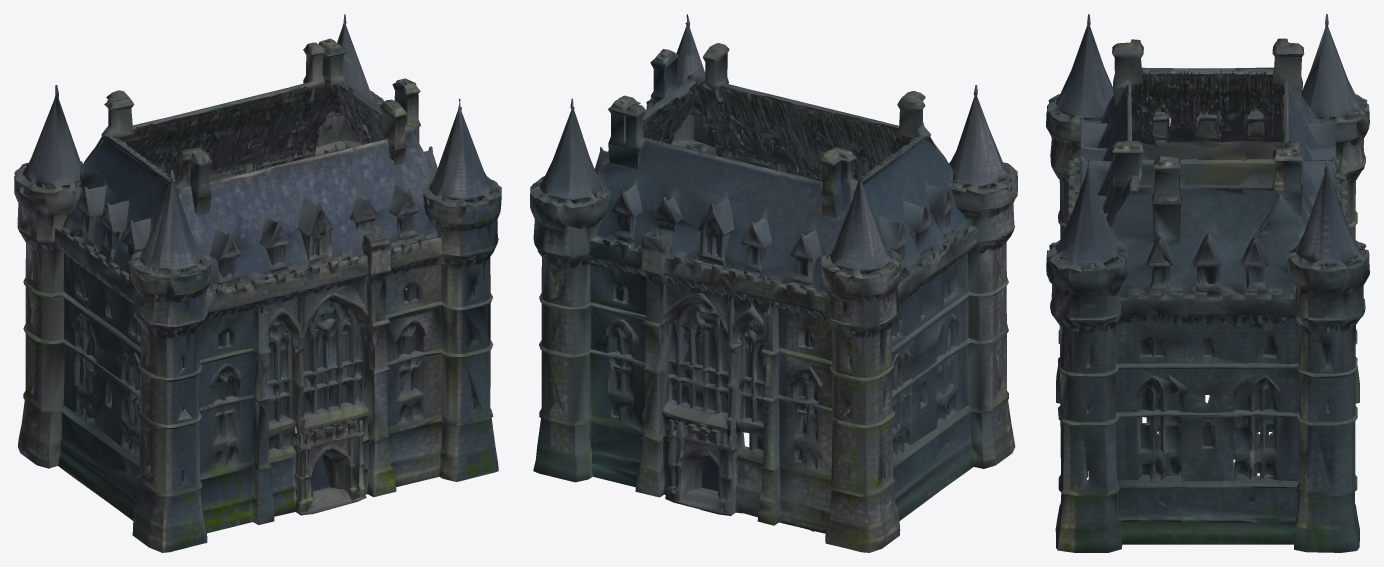
Rendered from academy-hall.glb.
3 renders of one model, left to right at view 1: azimuth 30°, elevation 25°; view 2: azimuth 150°, elevation 25°; view 3: azimuth 270°, elevation 25°, orthographic. The views are drawn at different scales.
Parts seen in each view (by area): view 1: academy-hall; view 2: academy-hall; view 3: academy-hall.
Boxes of the visible parts, x1,y1,x2,y2 form: academy-hall: (14,14,501,552); academy-hall: (530,14,1017,552); academy-hall: (1046,14,1369,552).
Bounding box in the file's own units: 55.91 × 54.99 × 42.28.
Materials: 1 (1 with a texture image).
